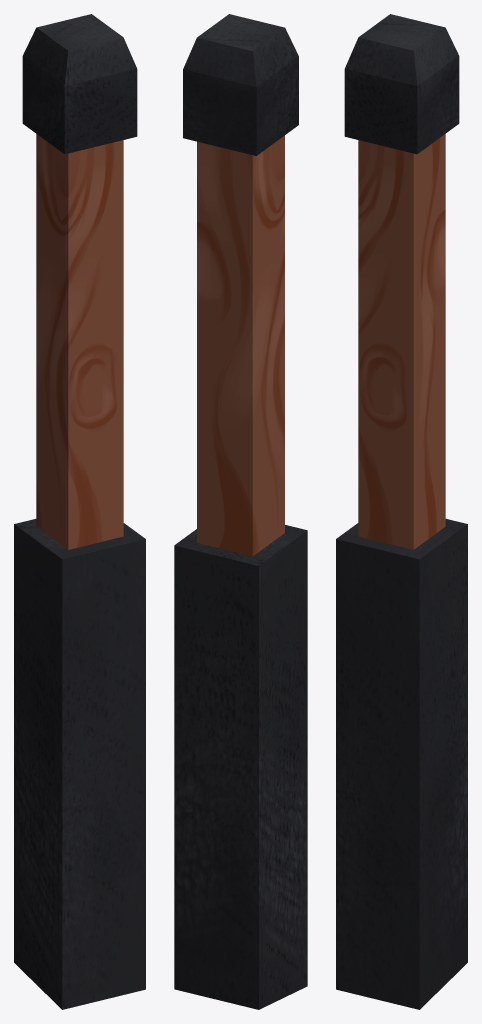
The model's file is signpost02.fbx.
The picture shows the model from 3 angles, left to right: view 1: azimuth 30°, elevation 25°; view 2: azimuth 150°, elevation 25°; view 3: azimuth 330°, elevation 25°; orthographic projection.
Parts seen in each view (by area): view 1: signpost02; view 2: signpost02; view 3: signpost02.
Part boxes in pixels (x1,y1,x2,y2): signpost02: (14, 14, 145, 1009); signpost02: (174, 14, 307, 1009); signpost02: (336, 14, 467, 1009).
Size of the model in its own units: 16.57 by 180 by 16.57.
